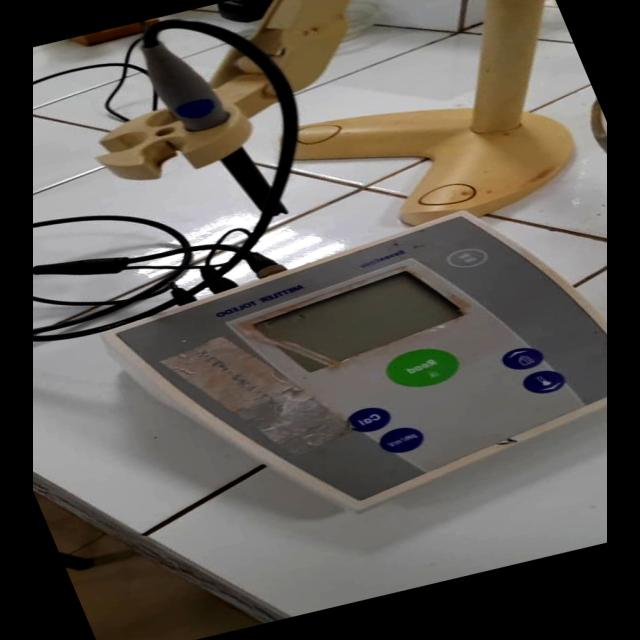PH meter: (33, 0, 607, 631)
